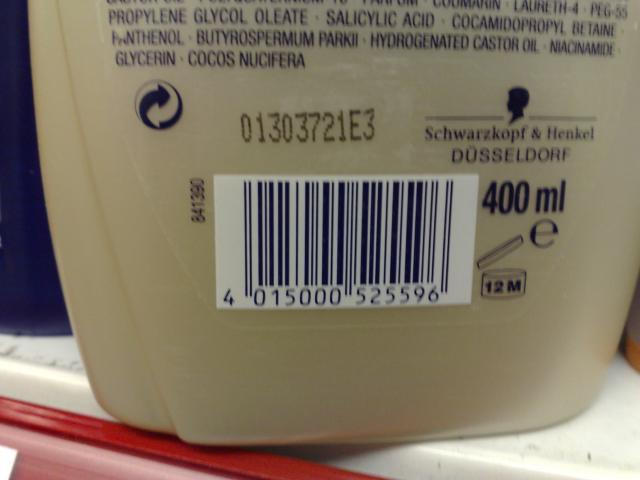Barcode: (217, 177, 461, 308)
